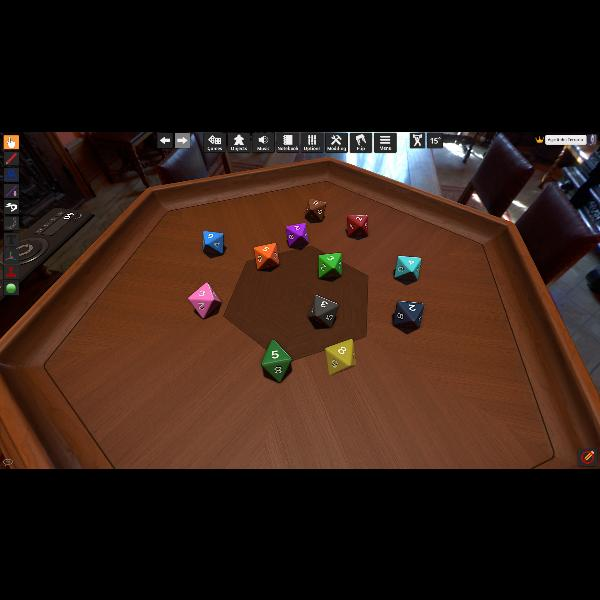d8: (262, 340, 292, 382), (188, 281, 222, 317), (326, 338, 354, 376), (310, 294, 340, 326), (393, 300, 423, 330), (394, 254, 420, 282), (255, 242, 280, 270), (318, 251, 342, 278), (202, 230, 224, 254), (284, 223, 306, 247), (306, 198, 326, 222), (346, 214, 367, 236)
